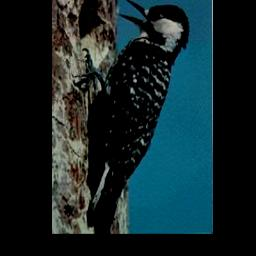Woodpecker: (72, 0, 195, 232)
